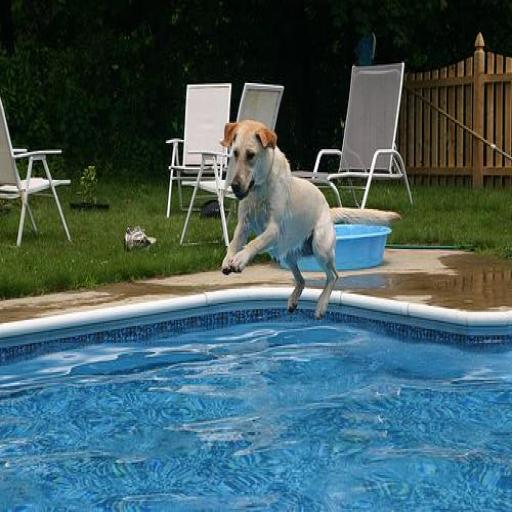dog_face: (219, 116, 278, 199)
